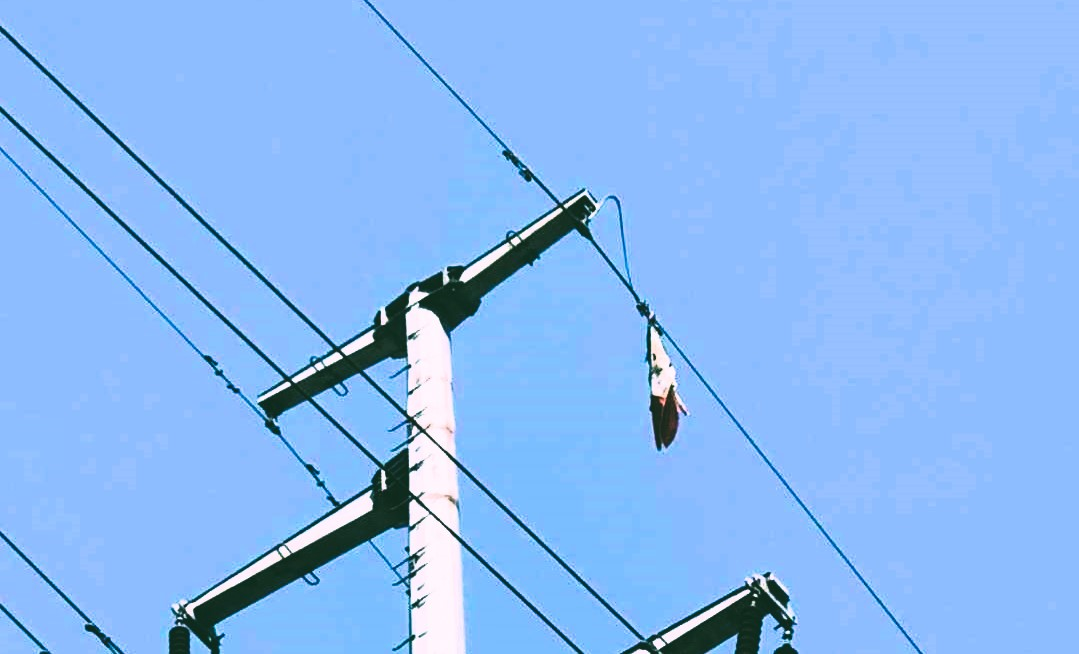wire foreign body: (615, 280, 702, 461)
